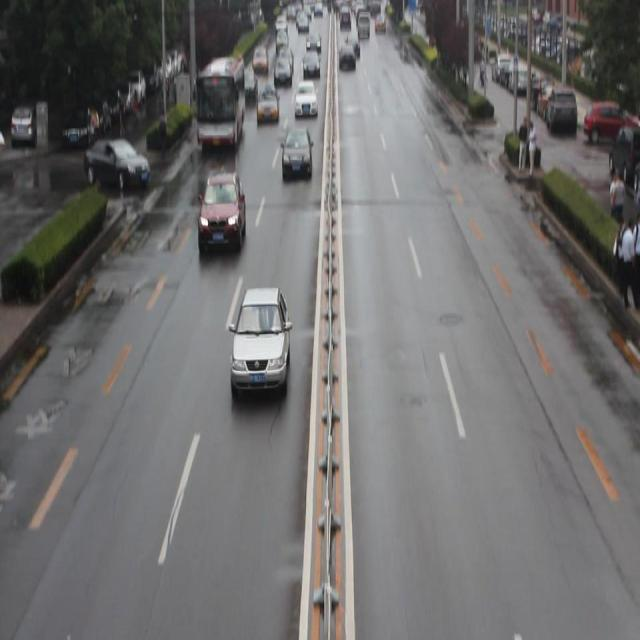car: (228, 283, 290, 388), (197, 169, 246, 243), (84, 134, 149, 186), (281, 124, 312, 170), (256, 80, 278, 118), (294, 76, 318, 110)
van: (194, 51, 247, 139)
